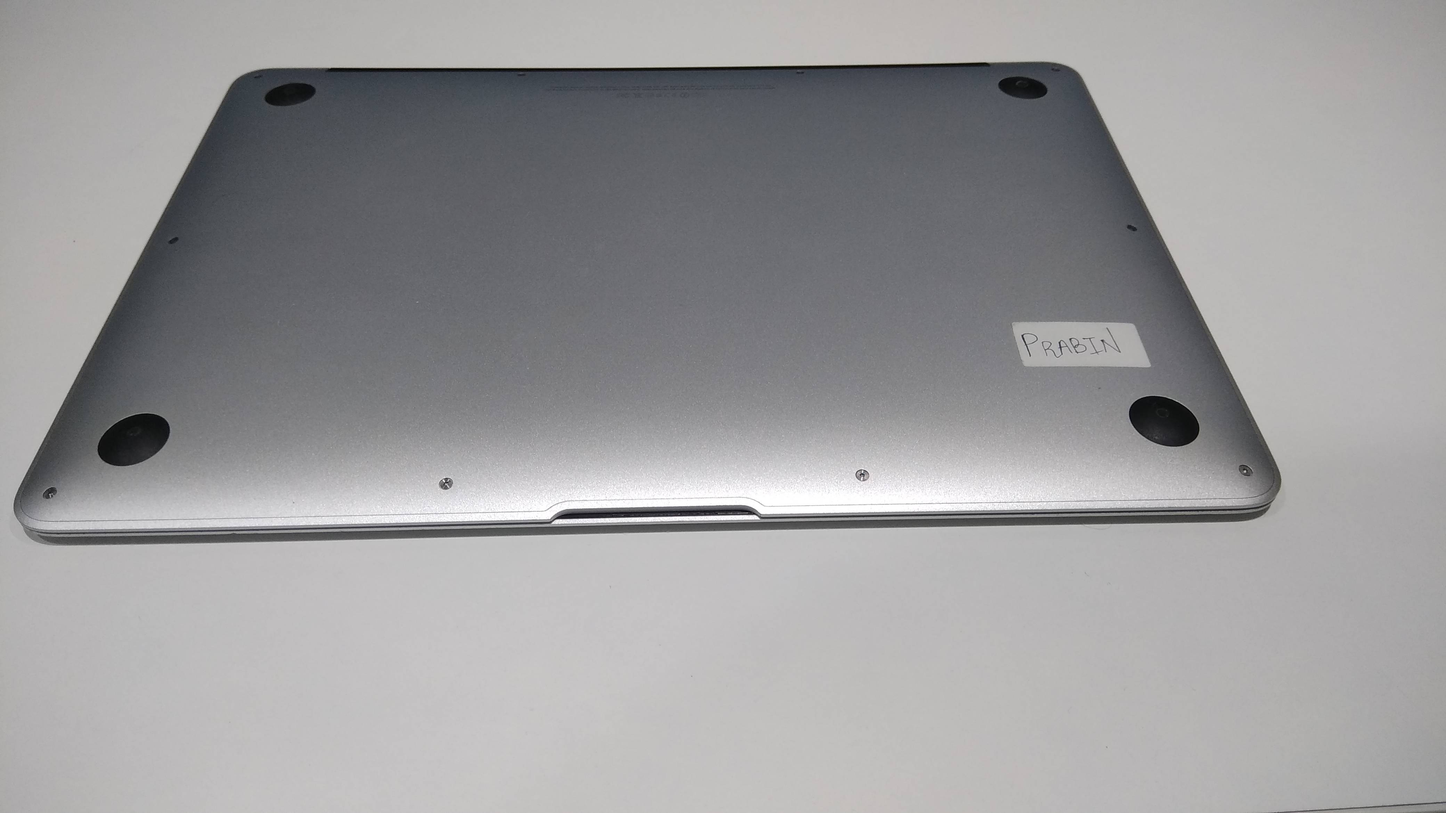Electronics: (14, 52, 1294, 565)
